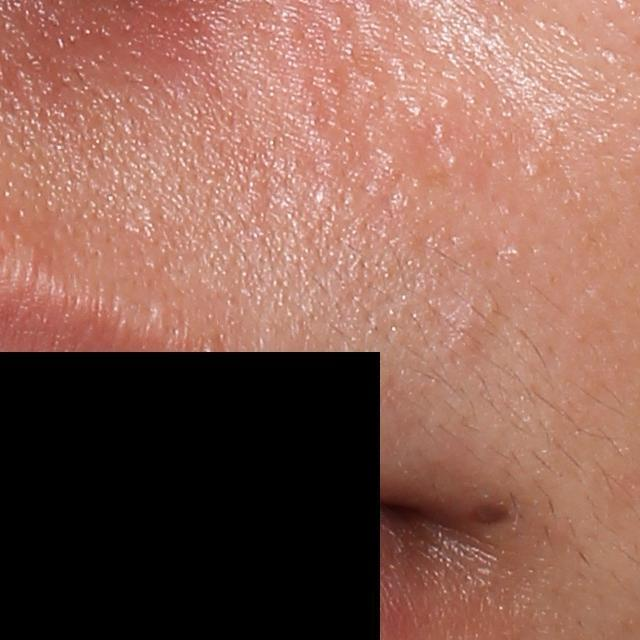comedo: (523, 159, 545, 181)
